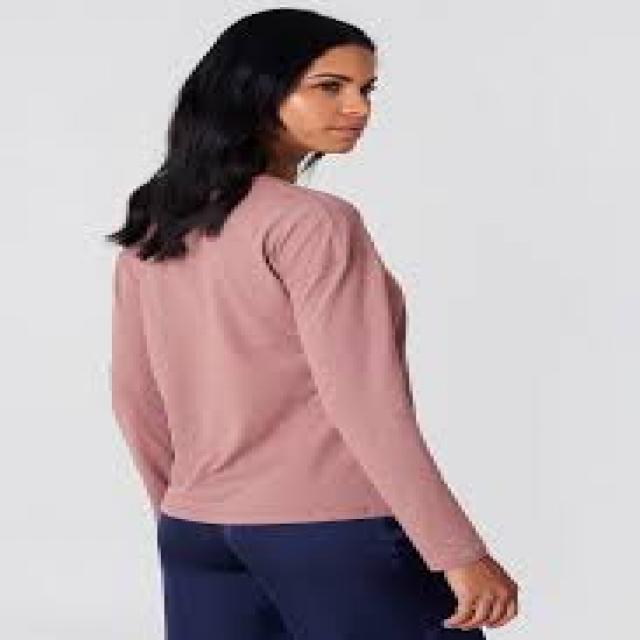plain: (87, 176, 450, 524)
